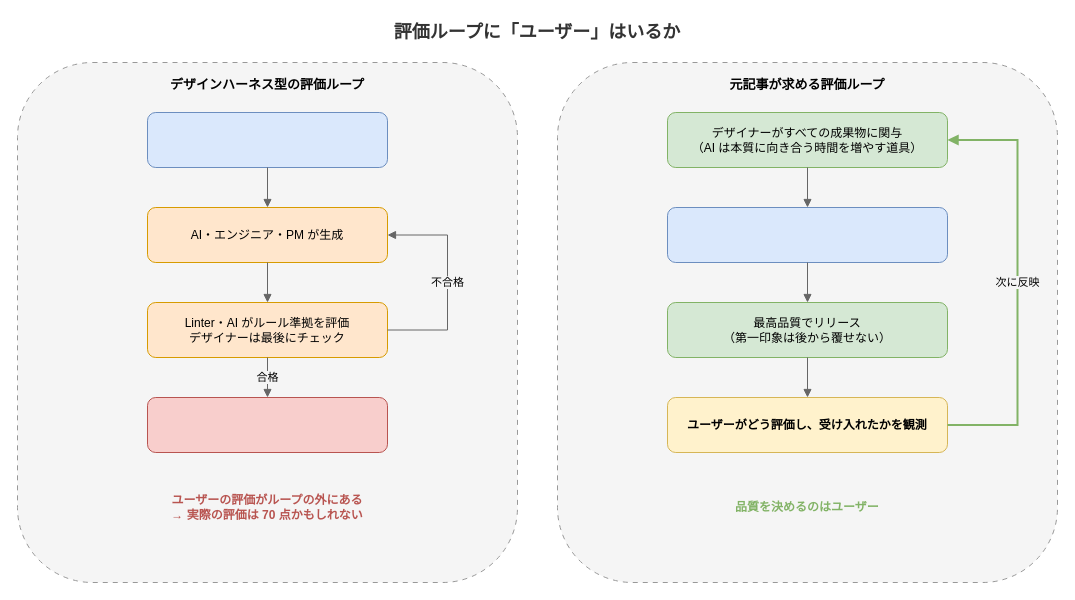
The diagram is 1075 pixels wide and 600 high, and some of its shapes have lost their labels. The centre of each missing label's shape, as x and y in pixels:
「90 点」でリリース: point (267, 424)
ルール・デザインシステム （Markdown で記述）: point (267, 140)
ルール準拠の確認は Linter に任せる: point (807, 234)
